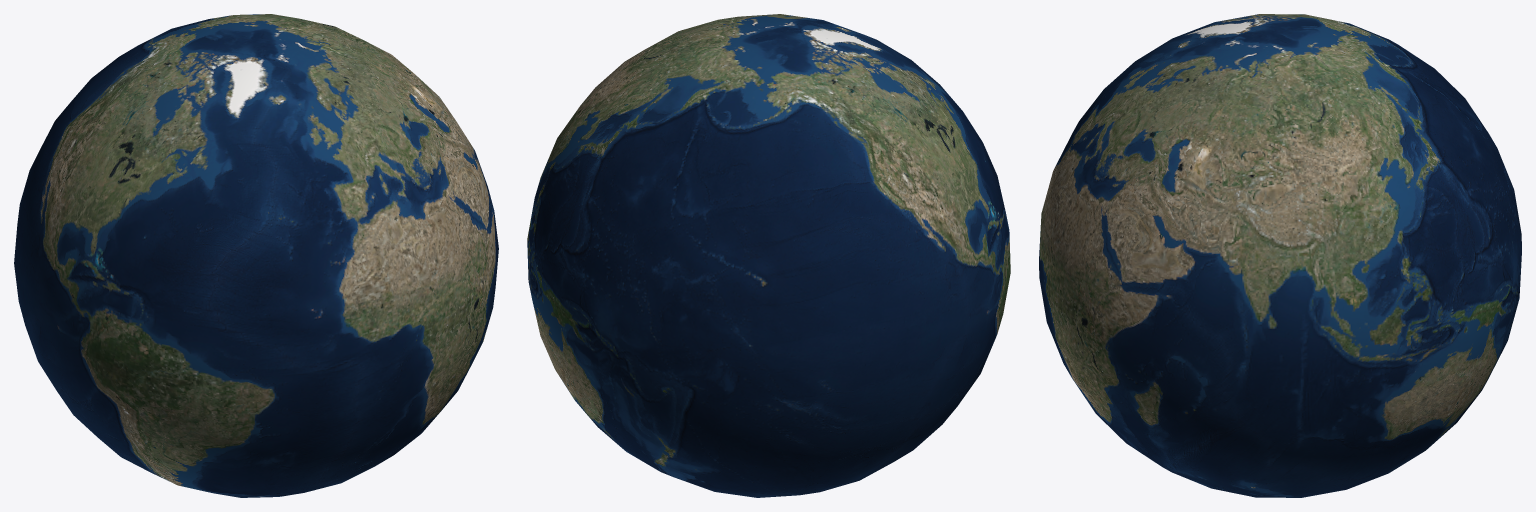
The model's file is ball.obj.
3 views of the same model, side by side, from view 1: azimuth 30°, elevation 25°; view 2: azimuth 150°, elevation 25°; view 3: azimuth 270°, elevation 25° (orthographic).
Visible parts, largest first — view 1: Atmosphere_Cube.001; view 2: Atmosphere_Cube.001; view 3: Atmosphere_Cube.001.
Boxes of the visible parts, box(x1,y1,x2,y2) form: Atmosphere_Cube.001: box(14, 14, 498, 497); Atmosphere_Cube.001: box(527, 14, 1010, 497); Atmosphere_Cube.001: box(1039, 14, 1521, 497).
Size of the model in its own units: 6.39 by 6.41 by 6.39.
Materials: 1 (1 with a texture image).
